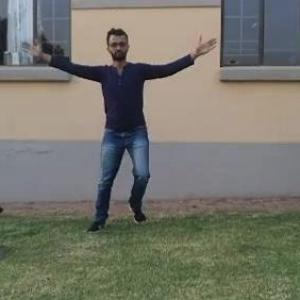takeoff: (47, 25, 224, 216)
